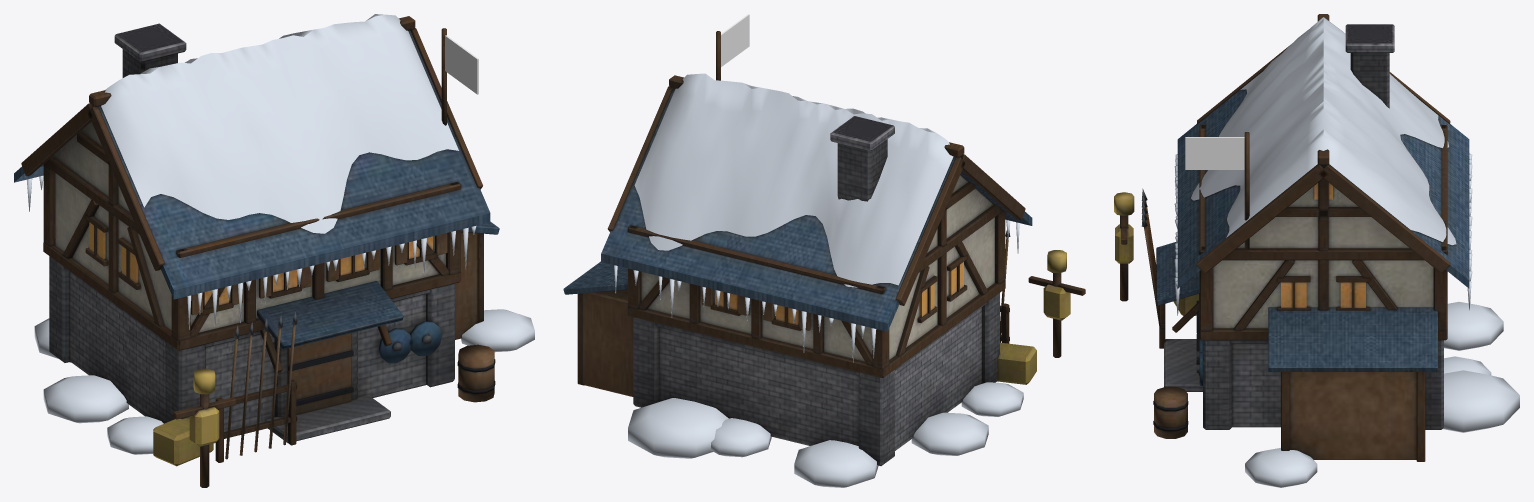
The model's file is wacht_barracks.glb.
The picture shows the model from 3 angles, left to right: view 1: azimuth 30°, elevation 25°; view 2: azimuth 150°, elevation 25°; view 3: azimuth 270°, elevation 25°; orthographic projection. The views are drawn at different scales.
Visible parts, largest first — view 1: wacht_barracks, Schnee, Fahne1; view 2: wacht_barracks, Schnee, Fahne1; view 3: wacht_barracks, Schnee, Fahne1.
Part boxes in pixels (bbox=[...]): wacht_barracks: bbox=[14, 16, 499, 487]; Schnee: bbox=[26, 14, 534, 454]; Fahne1: bbox=[445, 35, 478, 94]; wacht_barracks: bbox=[563, 31, 1085, 465]; Schnee: bbox=[614, 73, 1023, 487]; Fahne1: bbox=[721, 14, 749, 66]; wacht_barracks: bbox=[1114, 14, 1469, 461]; Schnee: bbox=[1174, 17, 1519, 487]; Fahne1: bbox=[1185, 137, 1244, 169].
Size of the model in its own units: 5.6 by 4.22 by 4.79.
Materials: 3 (1 with a texture image).
